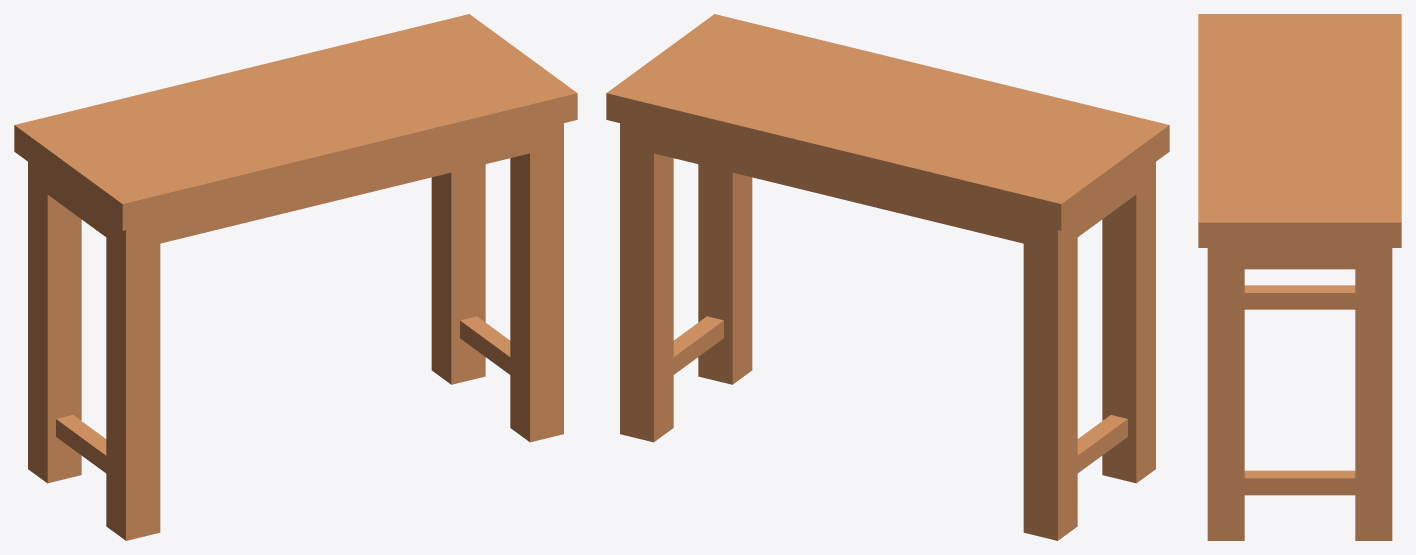
File: Furniture_Side_Table.glb
3 views of the same model, side by side, from view 1: azimuth 30°, elevation 25°; view 2: azimuth 150°, elevation 25°; view 3: azimuth 270°, elevation 25° (orthographic). The views are drawn at different scales.
Visible parts, largest first — view 1: sideTable; view 2: sideTable; view 3: sideTable.
Part boxes in pixels (bbox=[...]): sideTable: bbox=[14, 14, 577, 540]; sideTable: bbox=[606, 14, 1169, 540]; sideTable: bbox=[1198, 14, 1401, 540].
Size of the model in its own units: 0.5345 by 0.3844 by 0.22.
